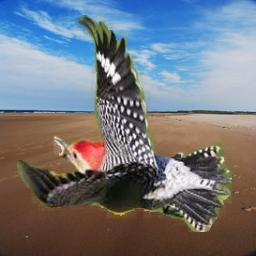Woodpecker: (17, 15, 232, 232)
